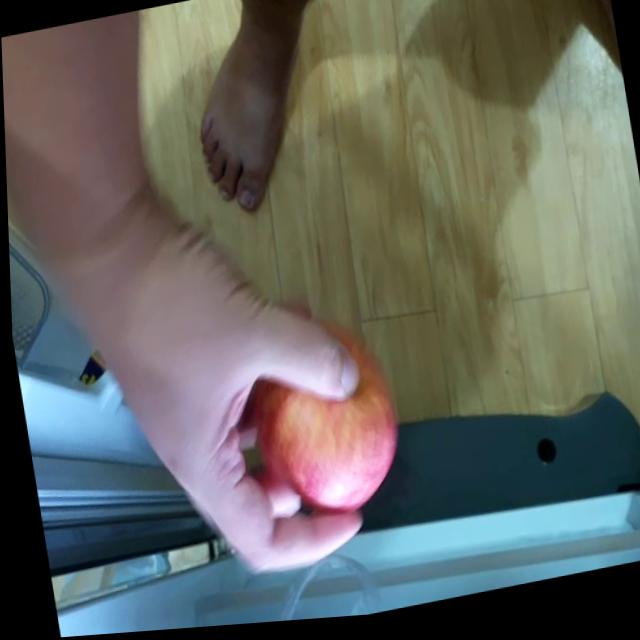apple: (238, 347, 408, 527)
